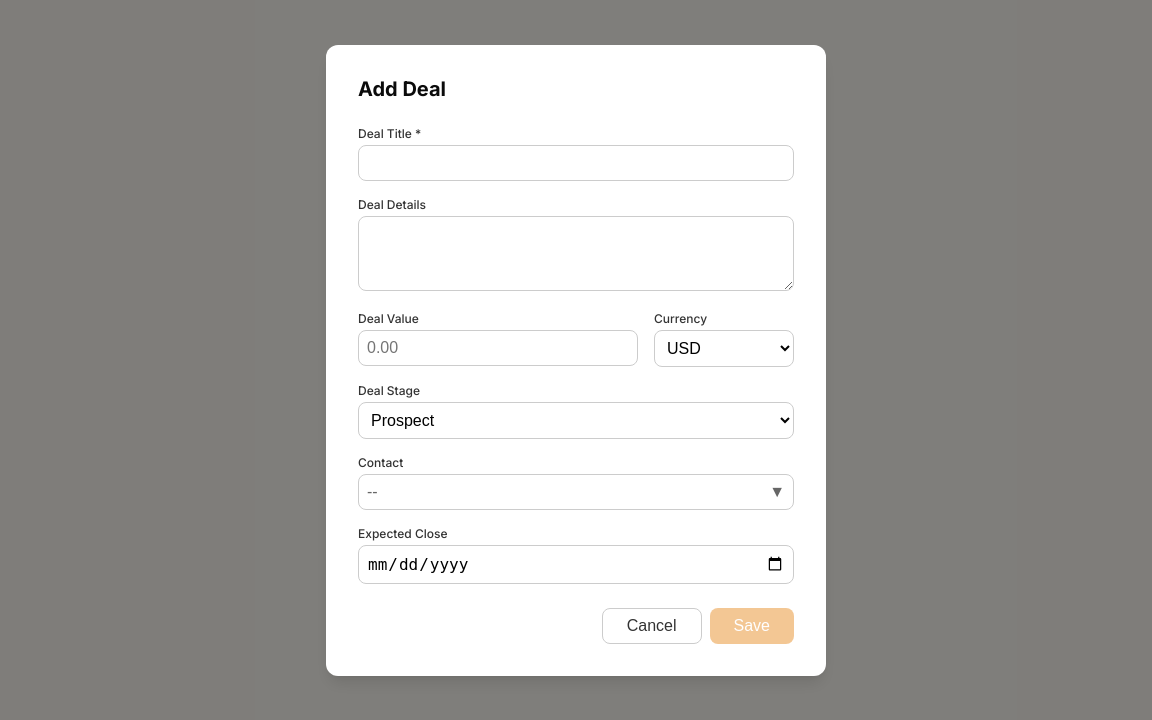
Test case: DealFormModal contact typeahead › supports keyboard selection in the contact search
Click the button named "Contact" at [372, 491], box [358,474,794,510]
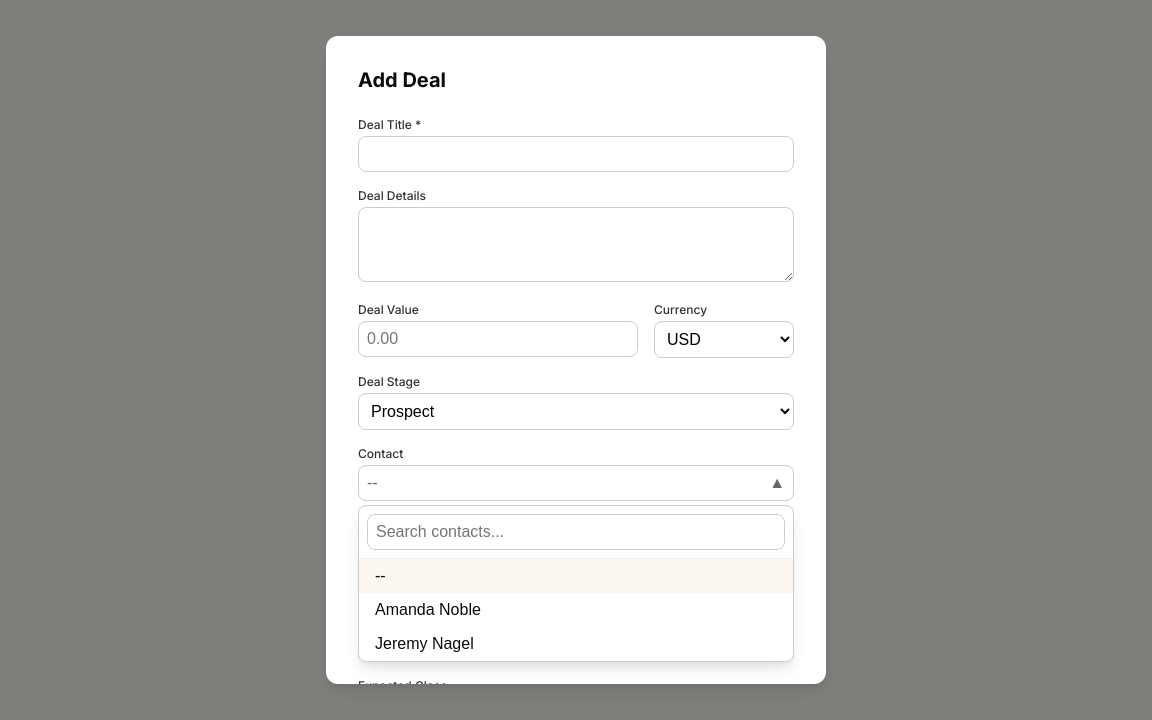
Type "jeremy" into the field with placeholder "Search contacts..." at [576, 532], box [367,514,785,550]
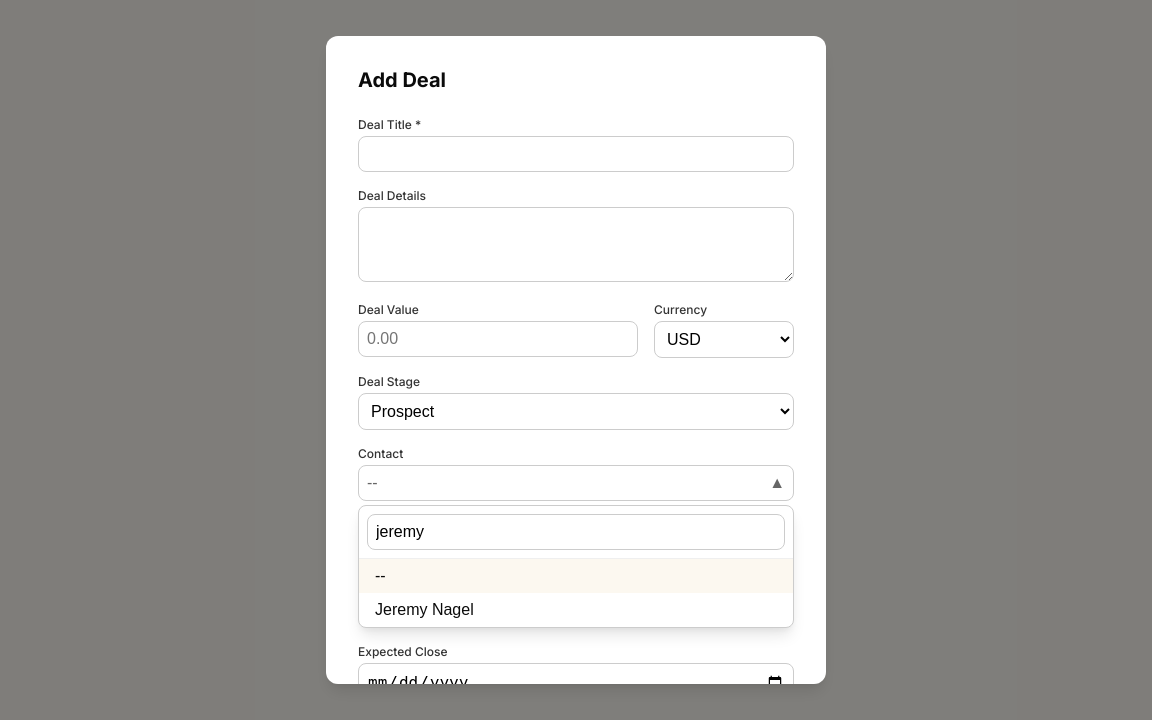
Press ArrowDown in the field with placeholder "Search contacts...", box [367,514,785,550]
Press ArrowDown in the field with placeholder "Search contacts...", box [367,514,785,550]
Press Enter in the field with placeholder "Search contacts...", box [367,514,785,550]
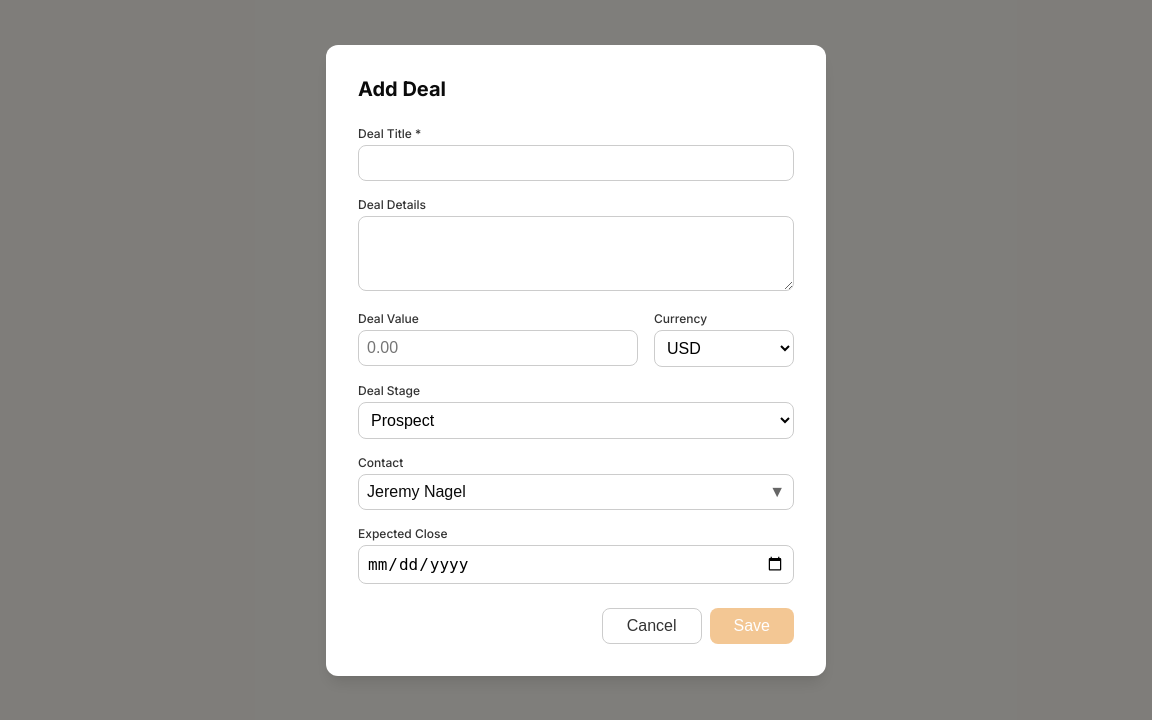
Now the button with aria-label "Contact" shows "Jeremy Nagel", box [358,474,794,510]
